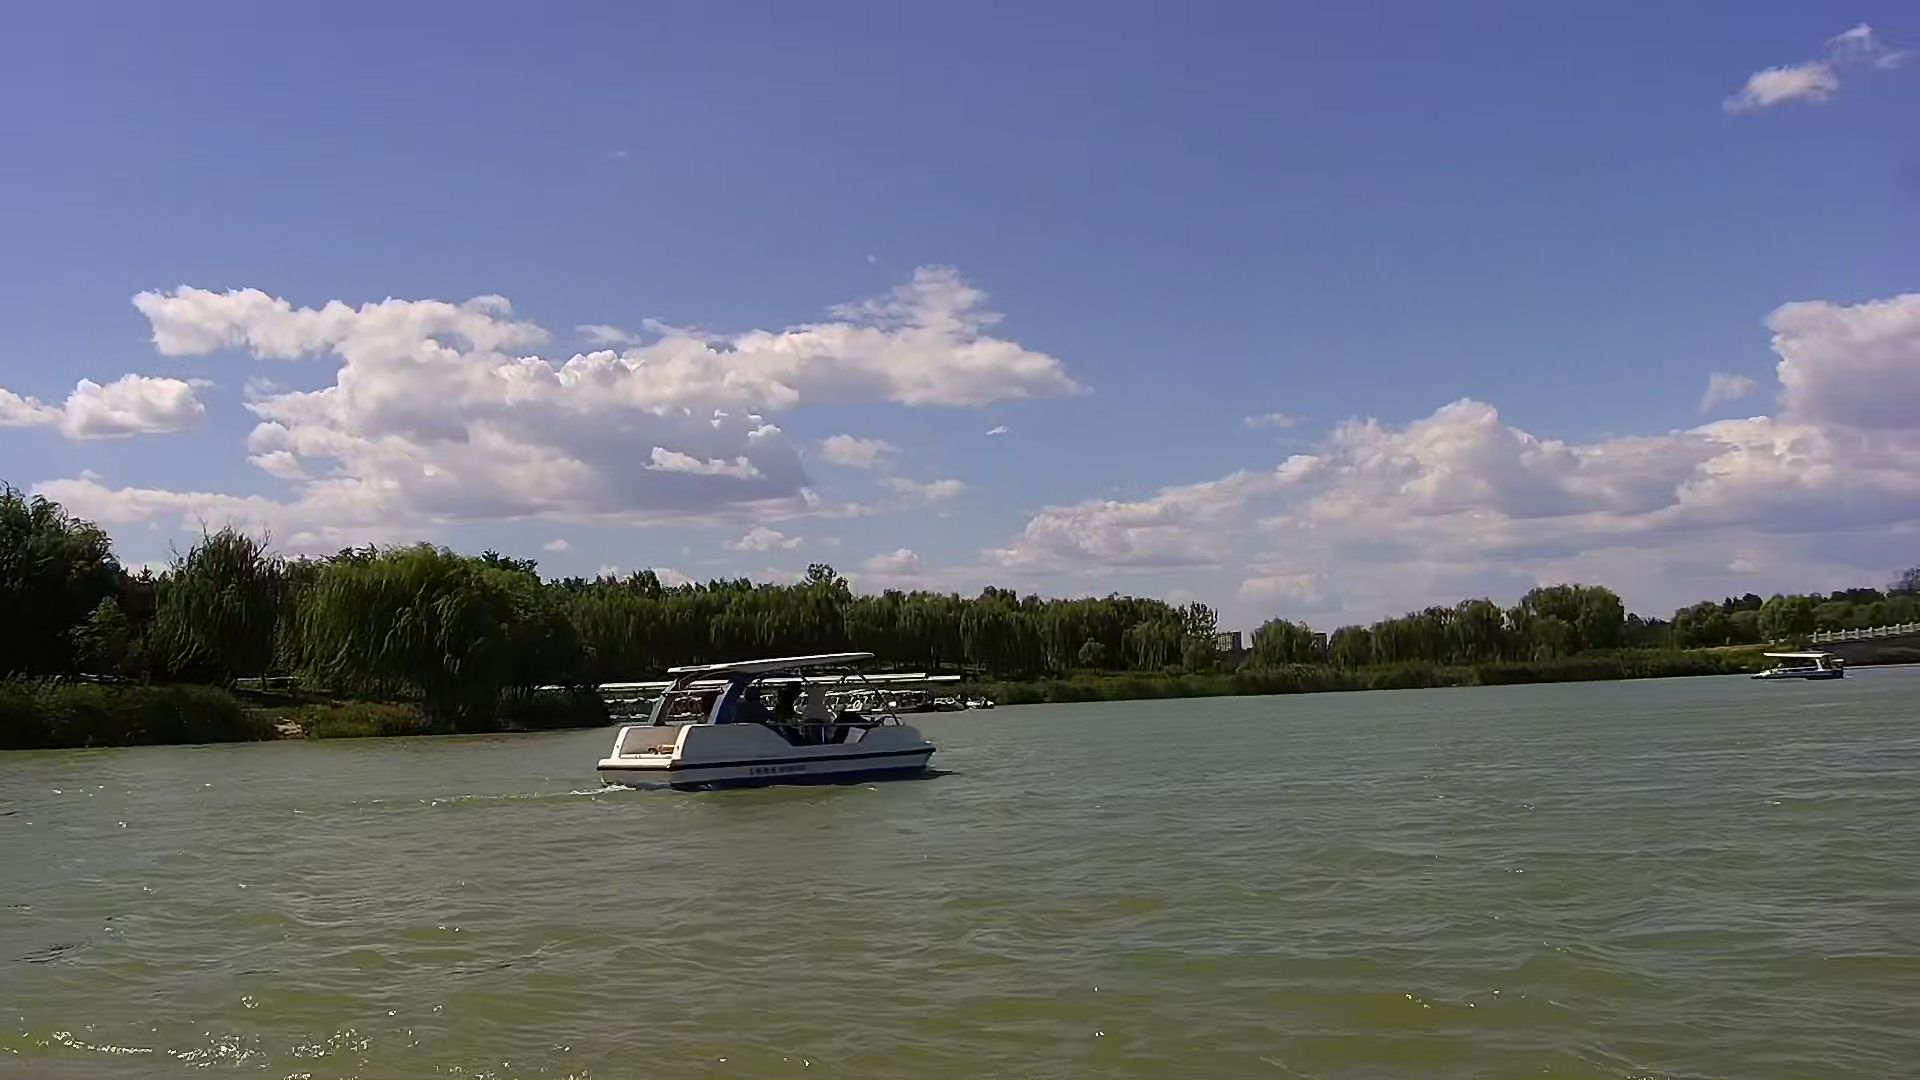boat: (588, 651, 945, 800), (1749, 640, 1853, 698)
